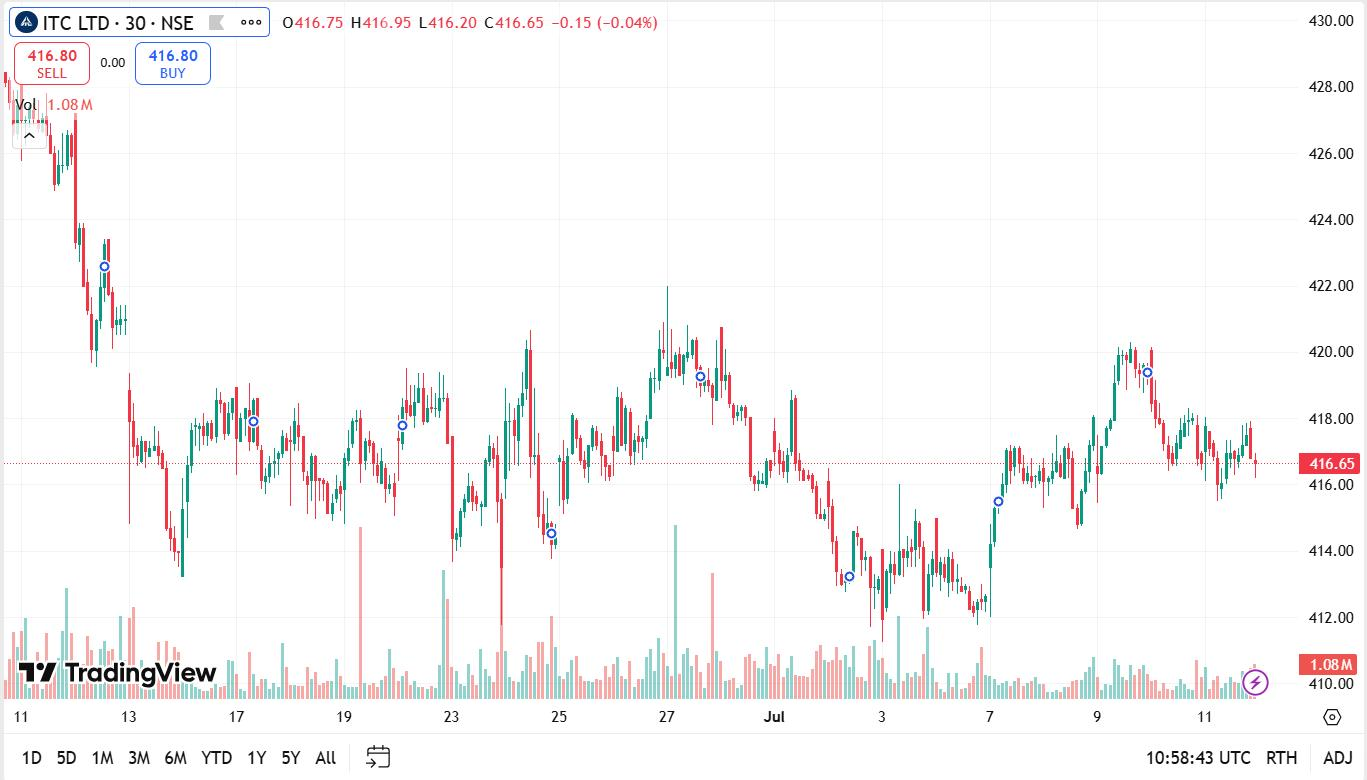Downtrend: (715, 304, 967, 633), (64, 120, 185, 601)
Sideways: (260, 394, 399, 555)
Uptrend: (979, 318, 1120, 634), (556, 270, 674, 536)
